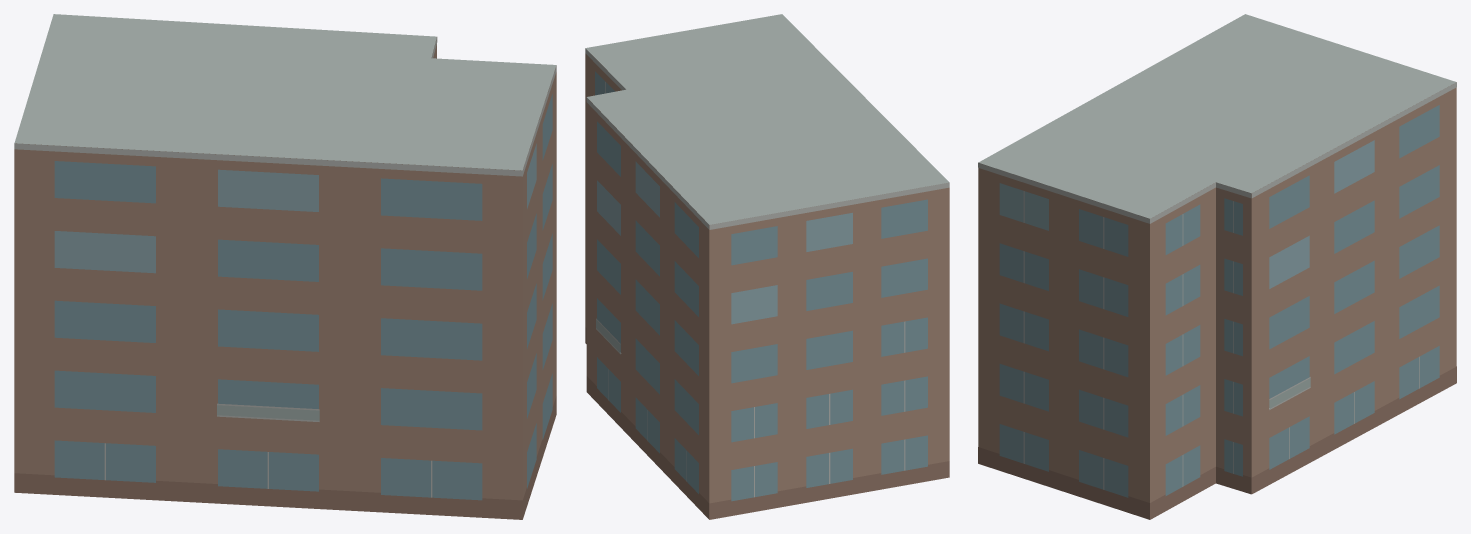
Rendered from survey-upis-33002665.glb.
3 renders of one model, left to right at view 1: azimuth 30°, elevation 25°; view 2: azimuth 150°, elevation 25°; view 3: azimuth 270°, elevation 25°, orthographic. The views are drawn at different scales.
Parts seen in each view (by area): view 1: survey-upis-33002665.tmp; view 2: survey-upis-33002665.tmp; view 3: survey-upis-33002665.tmp.
Boxes of the visible parts, <box> form: survey-upis-33002665.tmp: <box>14,14,556,519</box>; survey-upis-33002665.tmp: <box>585,14,949,519</box>; survey-upis-33002665.tmp: <box>978,14,1456,519</box>.
Bounding box in the file's own units: 20.72 × 14.2 × 20.46.
